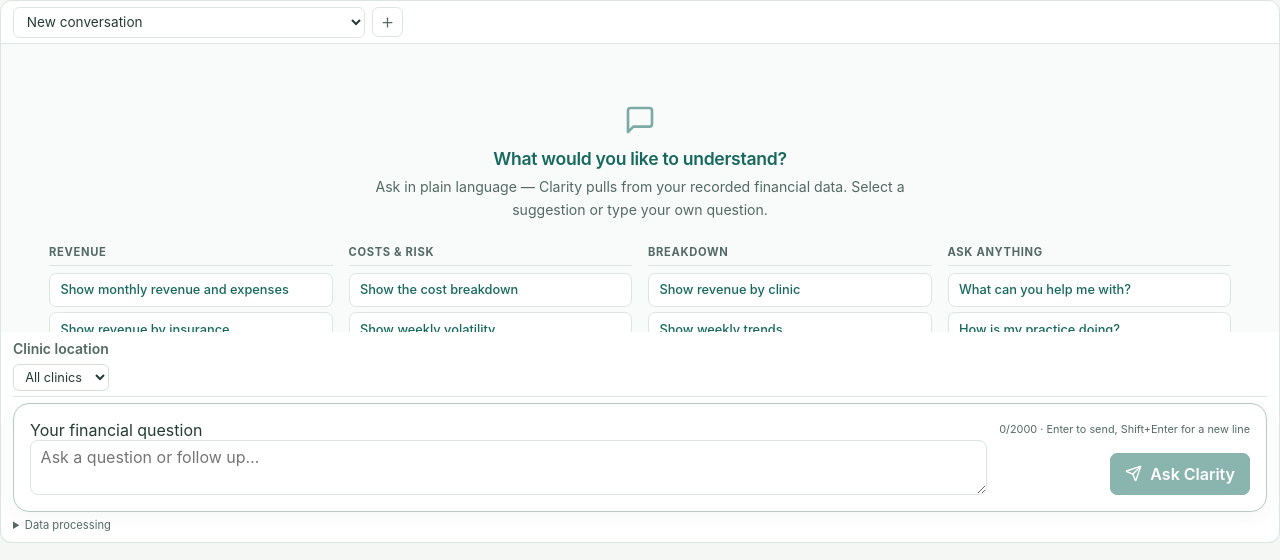
Test: shows the submitted question and pending assistant bubble before a reply arrives
Type "Show the answer while the model works" into the text box labelled "Your financial question" at [509, 467], box [30,440,987,495]
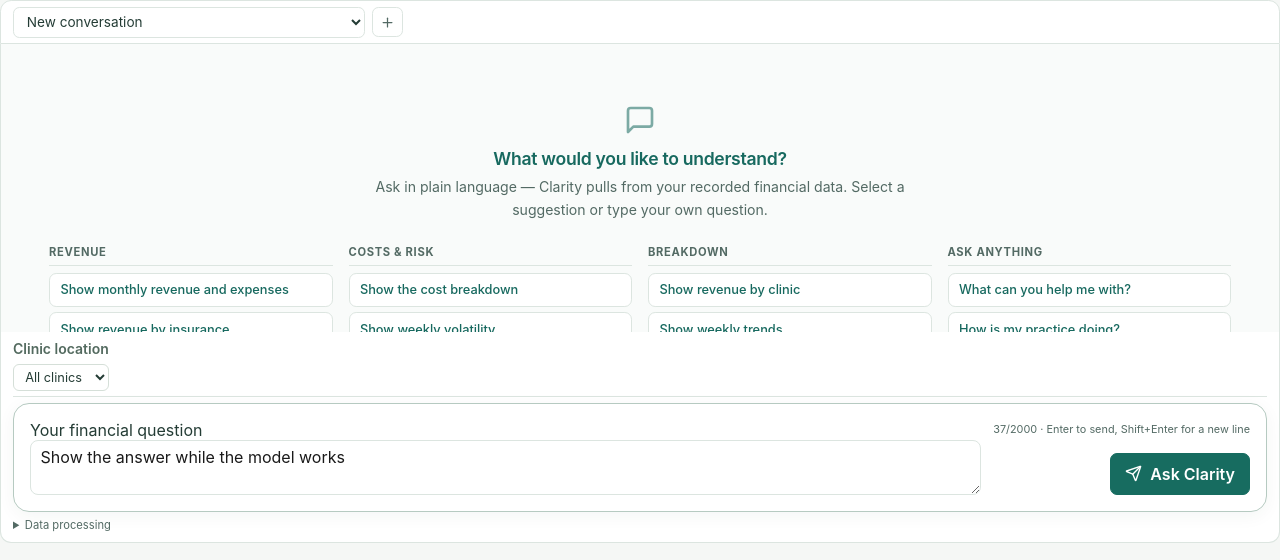
Click the button "Ask Clarity" at [1180, 474], box [1110,452,1250,494]
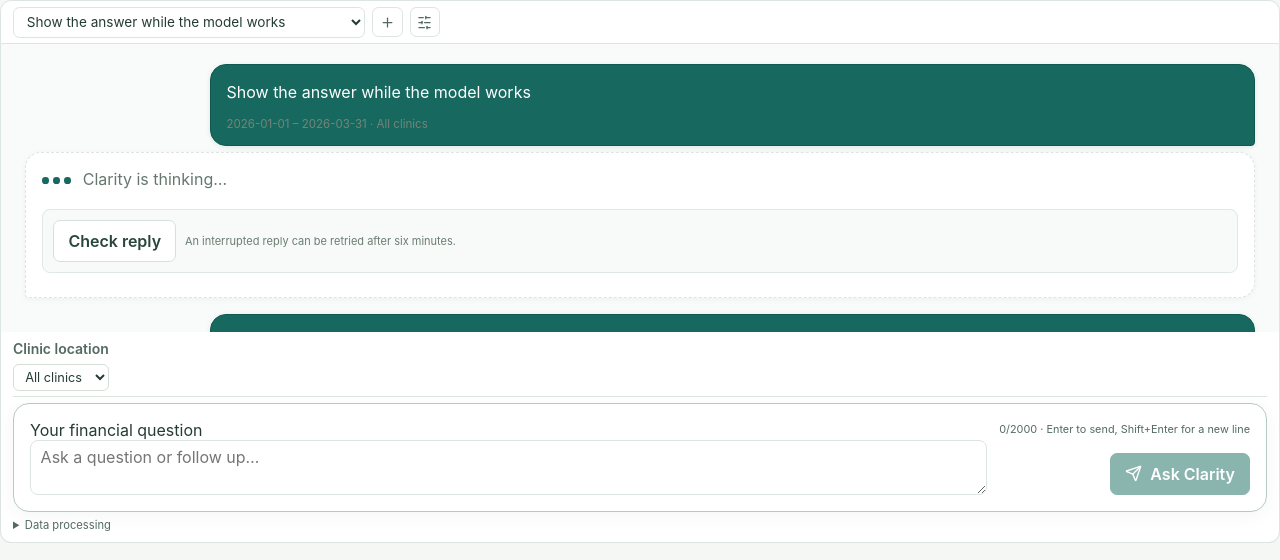
Expected: the element named "Your question" shows "Show the answer while the model works", [226,82,531,102]
Expected: the element named "Clarity reply pending" is shown, [25,152,1255,298]
